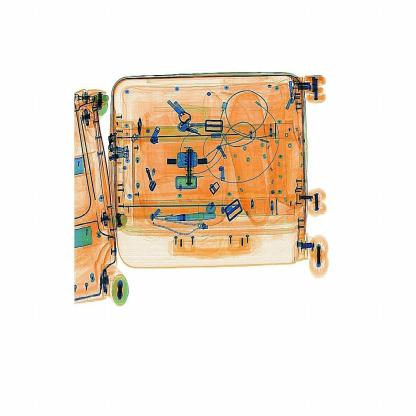scissors: (182, 137, 212, 190)
